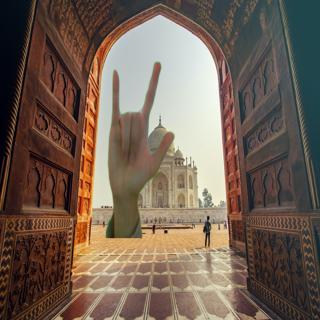ILY: (104, 59, 179, 201)
